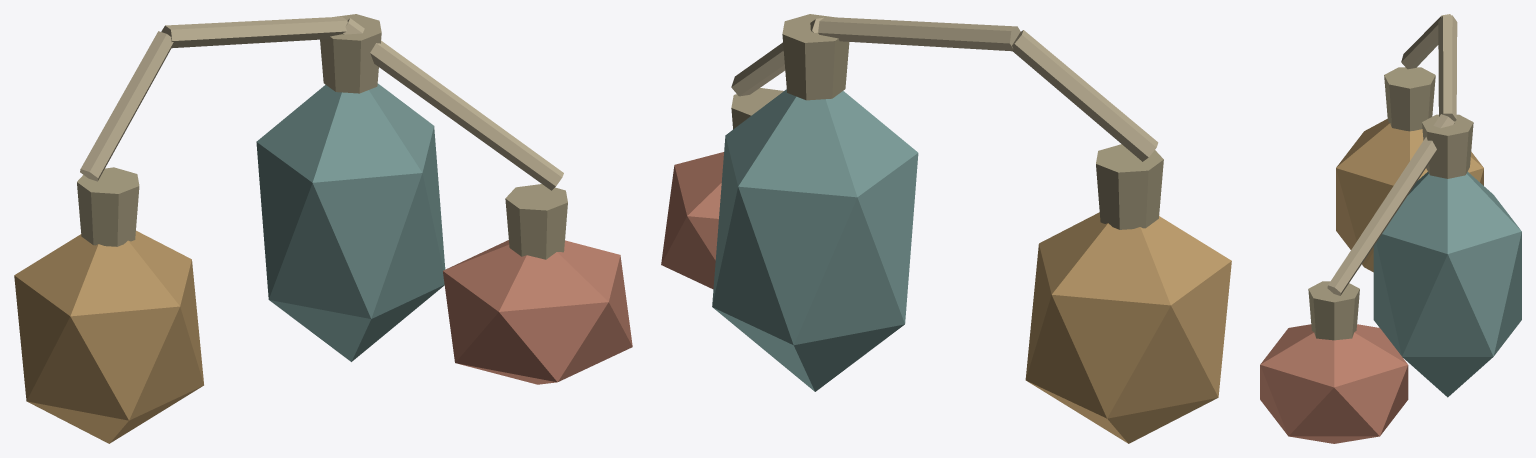
The model's file is map-exclusive-v3__shore_09.glb.
3 views of the same model, side by side, from view 1: azimuth 30°, elevation 25°; view 2: azimuth 150°, elevation 25°; view 3: azimuth 270°, elevation 25° (orthographic). The views are drawn at different scales.
Visible parts, largest first — view 1: shore_09; view 2: shore_09; view 3: shore_09.
Boxes of the visible parts, <box> form: shore_09: <box>14,14,632,443</box>; shore_09: <box>661,14,1231,443</box>; shore_09: <box>1260,14,1521,443</box>.
Size of the model in its own units: 1.36 by 0.9013 by 0.6913.
